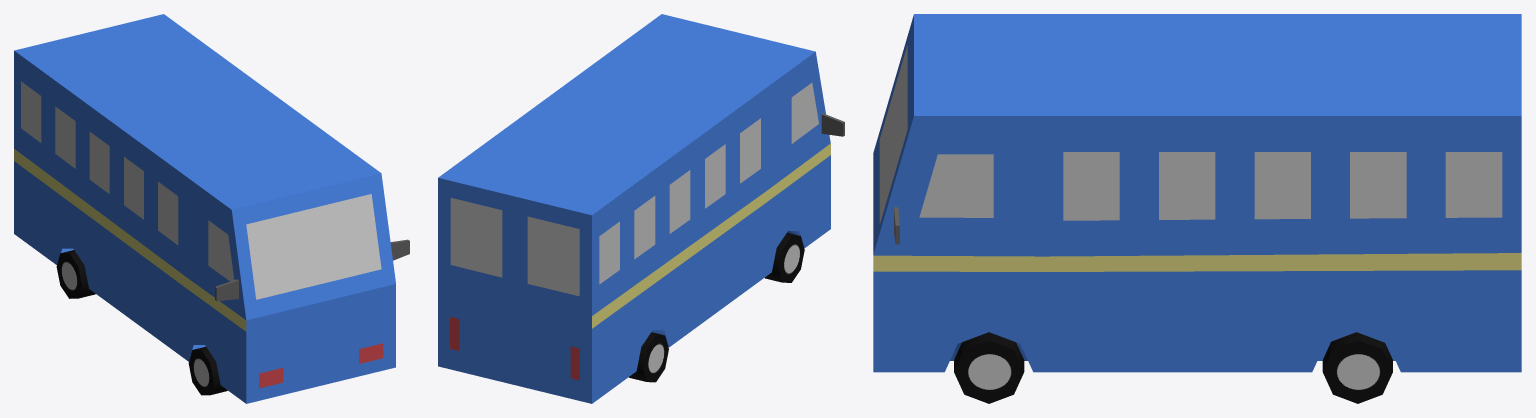
File: Bus_1.FBX
3 renders of one model, left to right at view 1: azimuth 30°, elevation 25°; view 2: azimuth 150°, elevation 25°; view 3: azimuth 270°, elevation 25°, orthographic. The views are drawn at different scales.
Parts seen in each view (by area): view 1: Bus 01; view 2: Bus 01; view 3: Bus 01.
Part boxes in pixels (left/top/right/bottom): Bus 01: left=14, top=14, right=409, bottom=403; Bus 01: left=438, top=14, right=844, bottom=403; Bus 01: left=873, top=14, right=1521, bottom=403.
Bounding box in the file's own units: 1.98 × 2 × 4.12.
1 material, 1 textured.
